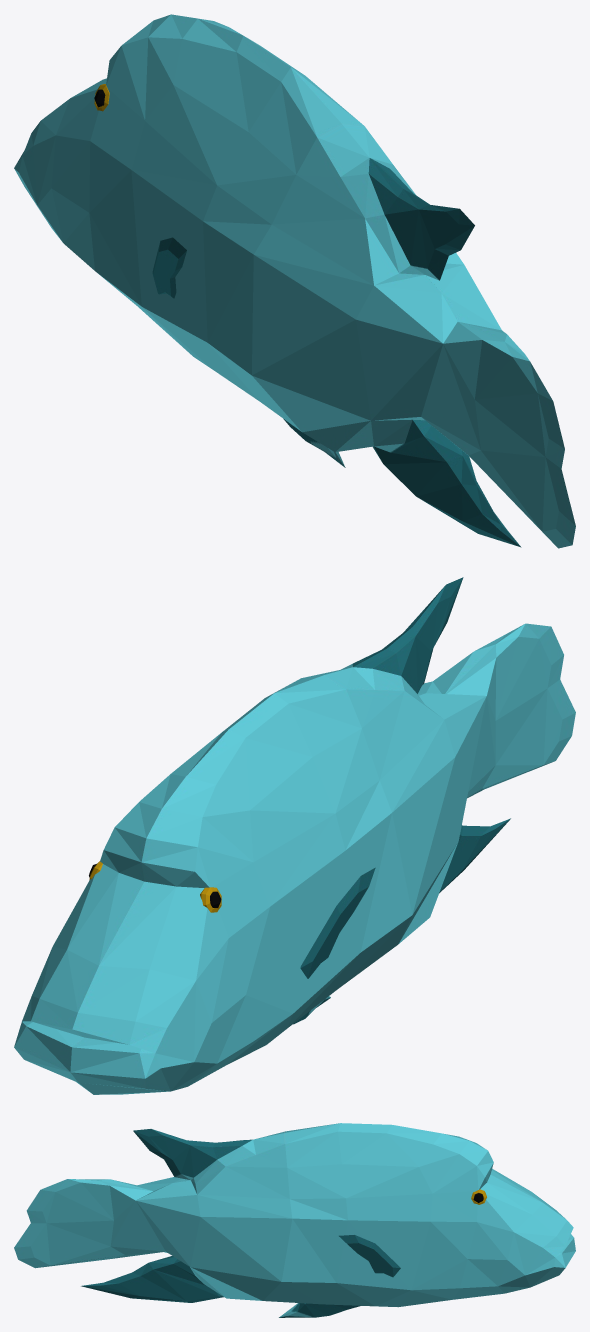
The model's file is MaoriWrasse.gltf.
The picture shows the model from 3 angles, top to bottom: view 1: azimuth 30°, elevation 25°; view 2: azimuth 150°, elevation 25°; view 3: azimuth 270°, elevation 25°; orthographic projection. The views are drawn at different scales.
Parts seen in each view (by area): view 1: fish; view 2: fish; view 3: fish.
Part boxes in pixels (x1,y1,x2,y2): fish: [14, 14, 575, 548]; fish: [14, 577, 575, 1094]; fish: [14, 1123, 575, 1317].
Size of the model in its own units: 73.86 by 121 by 316.
1 material, 1 textured.
